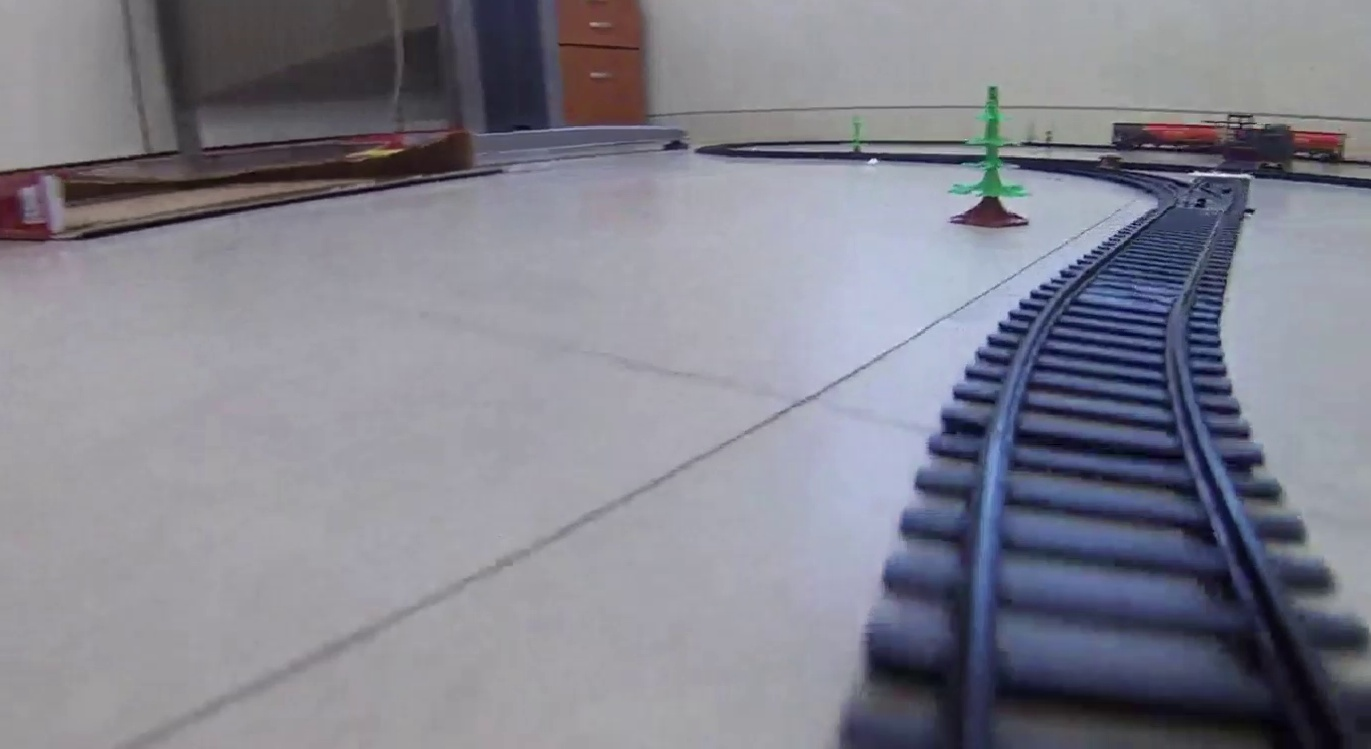tree: (947, 84, 1032, 229)
